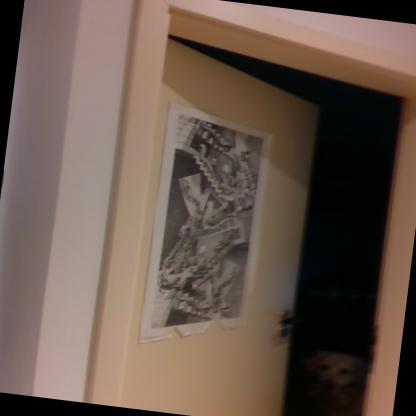semi: (77, 0, 415, 415)
